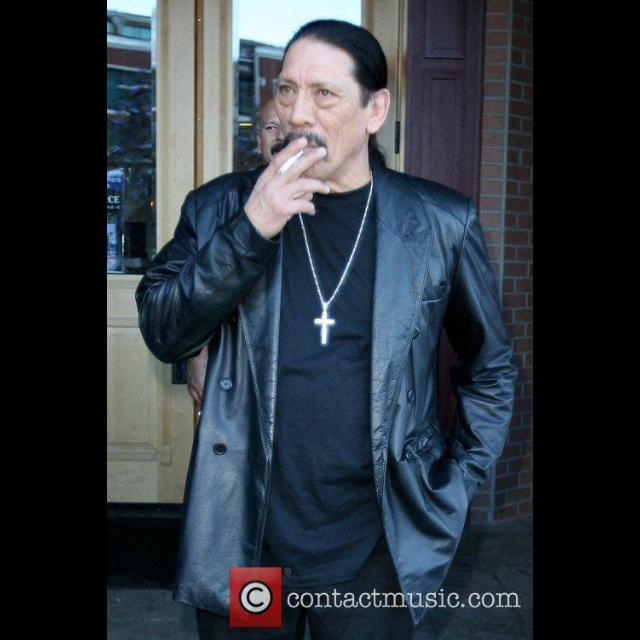rokok: (273, 147, 319, 175)
